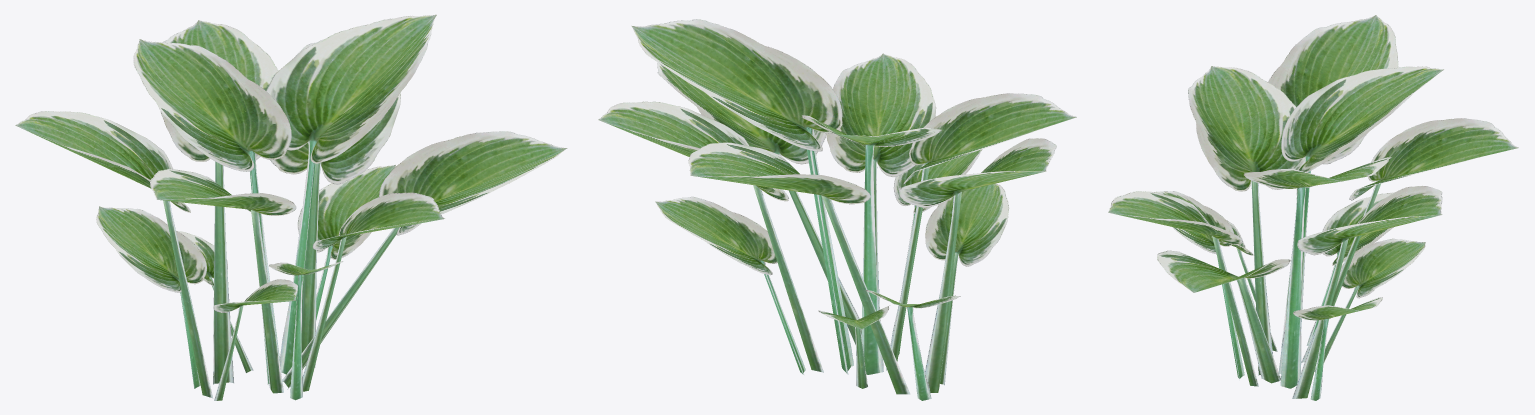
File: plant_small_wg_05V.fbx
3 views of the same model, side by side, from view 1: azimuth 30°, elevation 25°; view 2: azimuth 150°, elevation 25°; view 3: azimuth 270°, elevation 25° (orthographic). The views are drawn at different scales.
Parts seen in each view (by area): view 1: plant_small_wg_05V; view 2: plant_small_wg_05V; view 3: plant_small_wg_05V.
Boxes of the visible parts, box(x1,y1,x2,y2) form: plant_small_wg_05V: box(15, 14, 567, 400); plant_small_wg_05V: box(598, 19, 1076, 400); plant_small_wg_05V: box(1108, 15, 1518, 400).
Bounding box in the file's own units: 63.28 × 39.25 × 51.09.
